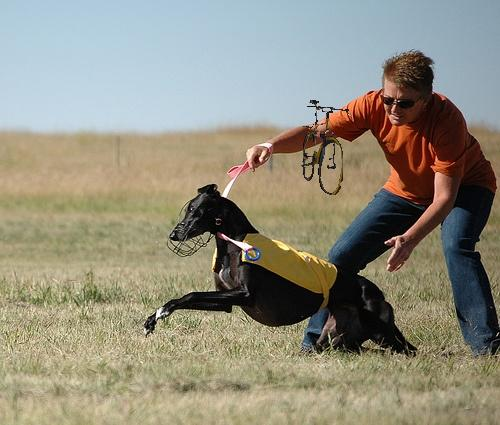tampered: (302, 101, 365, 195)
